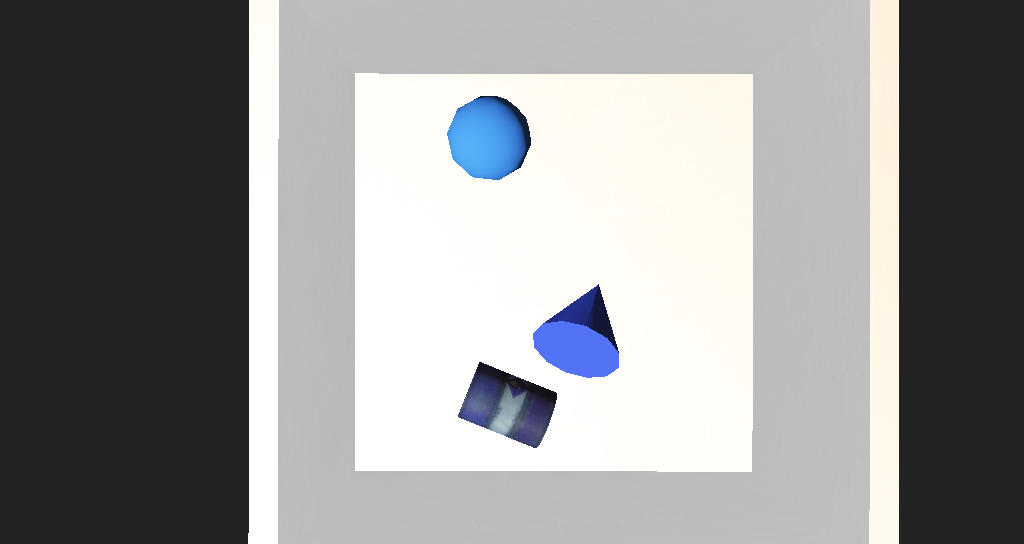cone: (435, 315, 509, 363)
cylinder: (488, 253, 576, 329)
sphere: (428, 179, 488, 222)
